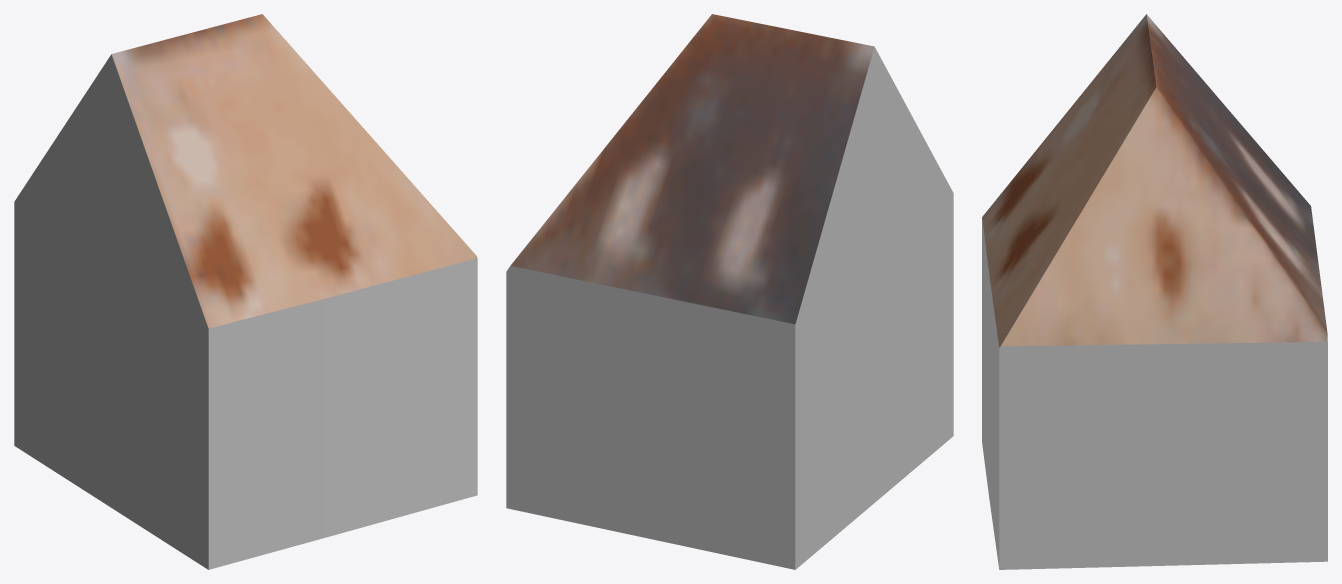
Rendered from DEBW_0010007Txcm.gltf.
3 views of the same model, side by side, from view 1: azimuth 30°, elevation 25°; view 2: azimuth 150°, elevation 25°; view 3: azimuth 270°, elevation 25° (orthographic). The views are drawn at different scales.
Parts seen in each view (by area): view 1: Z_UP; view 2: Z_UP; view 3: Z_UP.
Boxes of the visible parts, x1,y1,x2,y2 form: Z_UP: (14,14,477,569); Z_UP: (506,14,953,569); Z_UP: (982,14,1327,569).
Size of the model in its own units: 9.18 by 13.42 by 9.9.
2 materials, 1 textured.
